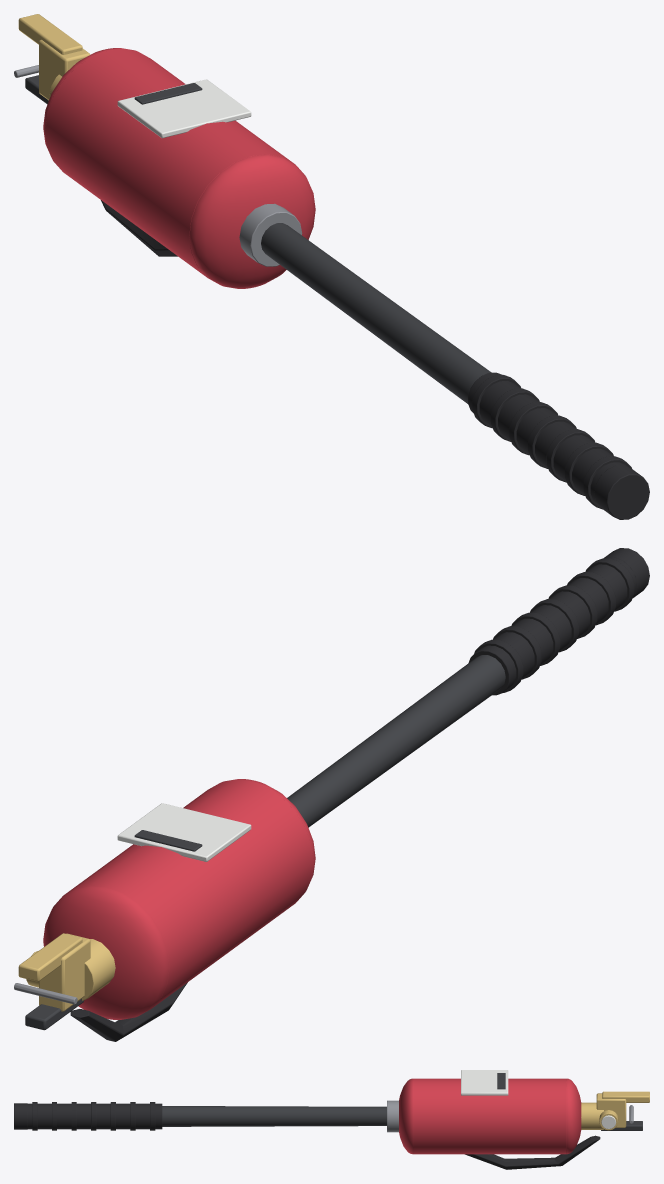
The model's file is mazo_extintor.glb.
3 renders of one model, top to bottom at view 1: azimuth 30°, elevation 25°; view 2: azimuth 150°, elevation 25°; view 3: azimuth 270°, elevation 25°, orthographic. The views are drawn at different scales.
Visible parts, largest first — view 1: mazo_extintor; view 2: mazo_extintor; view 3: mazo_extintor.
Boxes of the visible parts, x1=… form: mazo_extintor: x1=14, y1=14, x2=649, y2=519; mazo_extintor: x1=14, y1=548, x2=649, y2=1041; mazo_extintor: x1=14, y1=1070, x2=649, y2=1169.
Bounding box in the file's own units: 0.144 × 0.1844 × 1.2.
